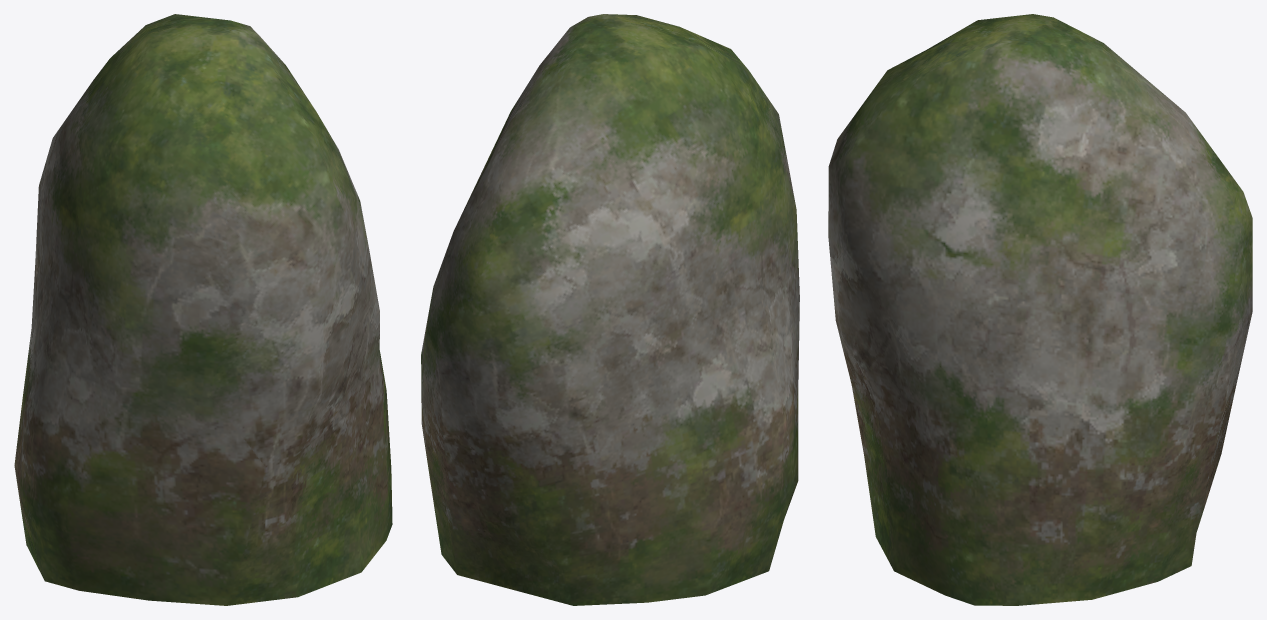
File: Rock7.fbx
3 renders of one model, left to right at view 1: azimuth 30°, elevation 25°; view 2: azimuth 150°, elevation 25°; view 3: azimuth 270°, elevation 25°, orthographic. The views are drawn at different scales.
Visible parts, largest first — view 1: SM_cmn_mount_Tomb_01a; view 2: SM_cmn_mount_Tomb_01a; view 3: SM_cmn_mount_Tomb_01a.
Part boxes in pixels (bbox=[...]): SM_cmn_mount_Tomb_01a: bbox=[14, 14, 392, 605]; SM_cmn_mount_Tomb_01a: bbox=[421, 14, 799, 605]; SM_cmn_mount_Tomb_01a: bbox=[828, 14, 1252, 605].
Bounding box in the file's own units: 137 × 201 × 155.
